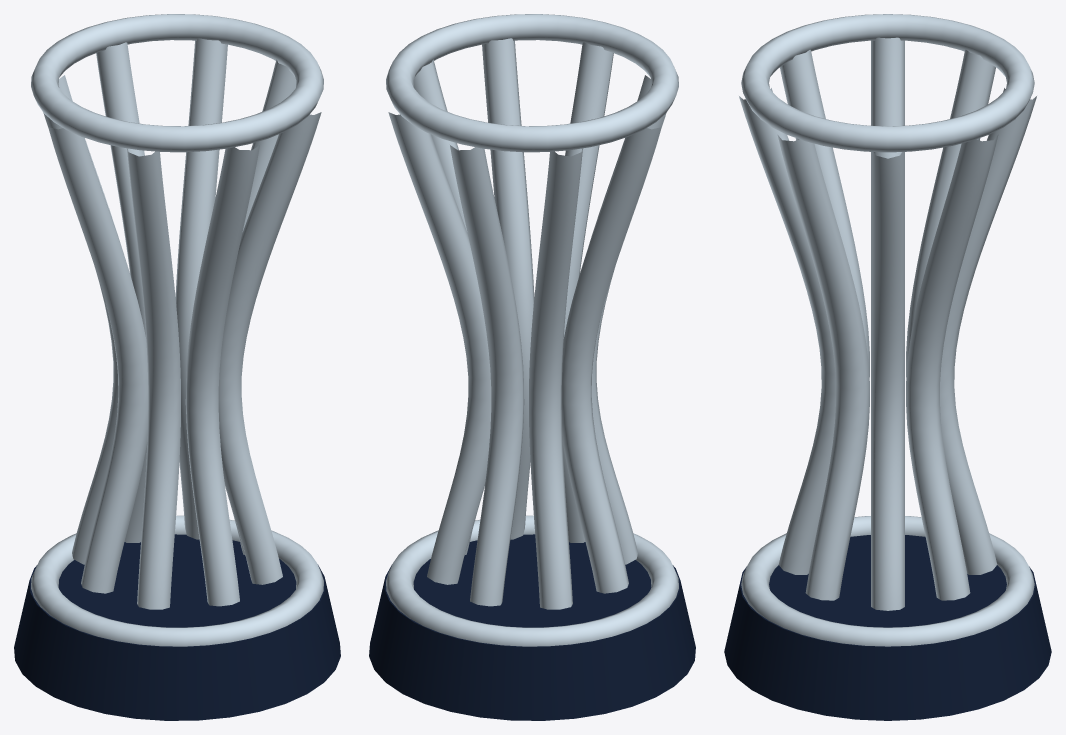
File: blues-trophy-spire.glb
The picture shows the model from 3 angles, left to right: view 1: azimuth 30°, elevation 25°; view 2: azimuth 150°, elevation 25°; view 3: azimuth 270°, elevation 25°; orthographic projection.
Size of the model in its own units: 1.06 by 2.08 by 1.06.
